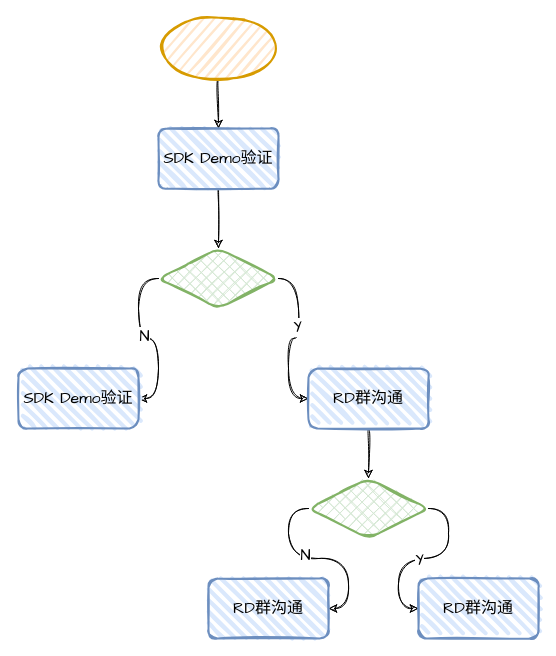
The diagram is 556 pixels wide and 656 high, and some of its shapes have lost their labels. The centre of each missing label's shape, as x and y in pixels:
"图商问题？" goes at point (218, 278).
"开始" goes at point (218, 48).
"接入过程？" goes at point (368, 508).
